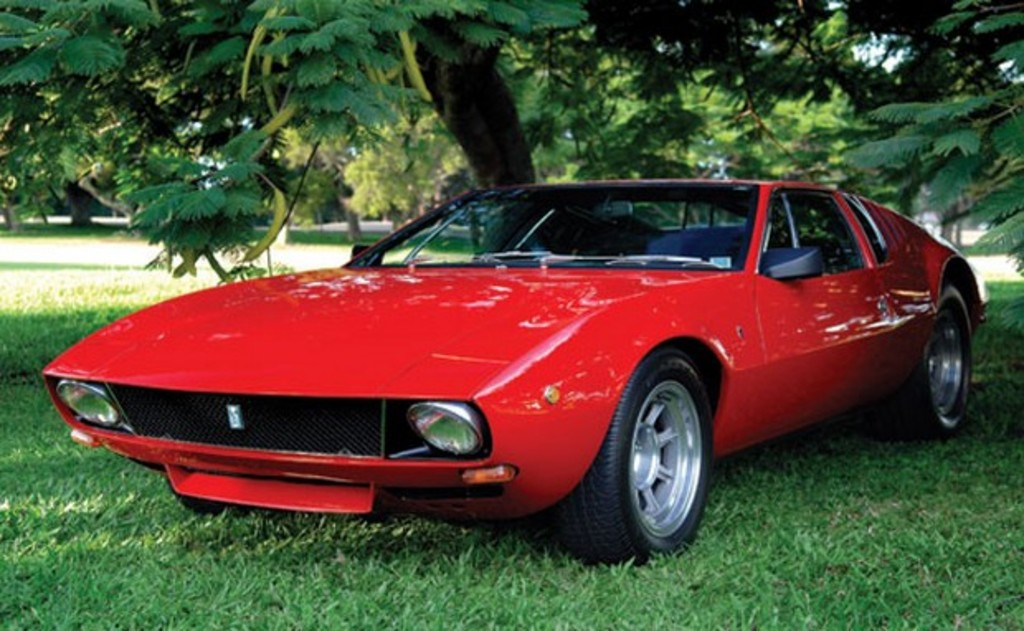Tree: (0, 0, 1023, 331)
